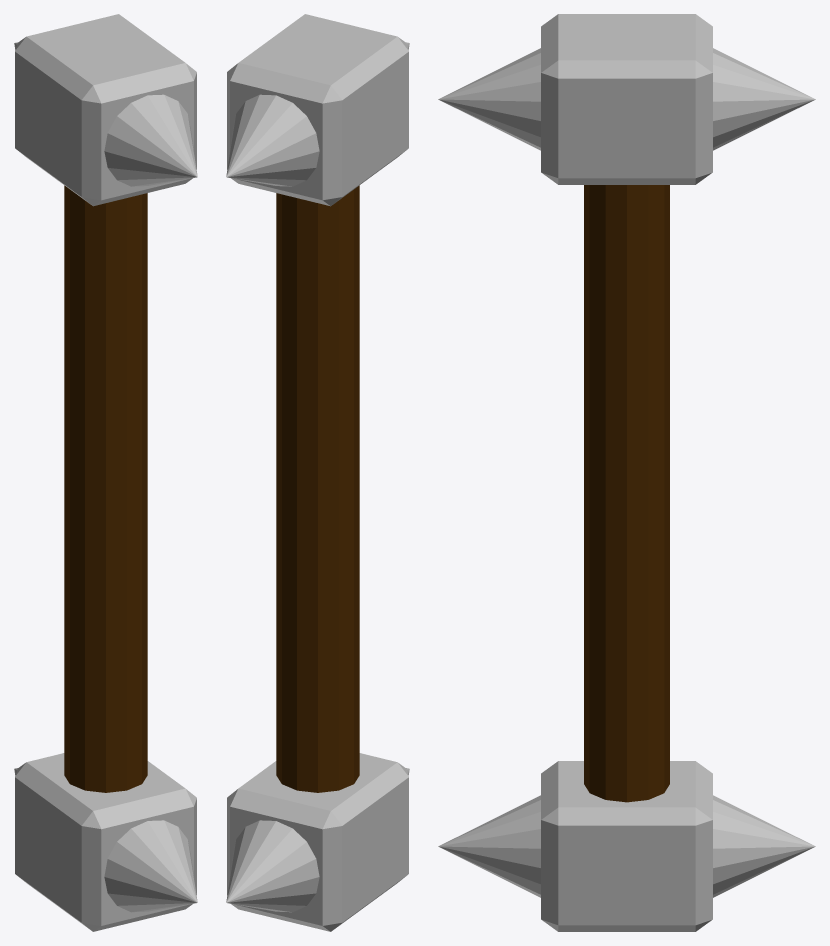
Rendered from marteau.fbx.
3 views of the same model, side by side, from view 1: azimuth 30°, elevation 25°; view 2: azimuth 150°, elevation 25°; view 3: azimuth 270°, elevation 25° (orthographic). The views are drawn at different scales.
Visible parts, largest first — view 1: Cylindre, Cube, Cône; view 2: Cylindre, Cube, Cône; view 3: Cube, Cylindre, Cône.
Part boxes in pixels (x1,y1,x2,y2): Cylindre: (64, 185, 147, 792); Cube: (15, 14, 196, 931); Cône: (14, 42, 197, 912); Cylindre: (276, 185, 359, 792); Cube: (227, 14, 408, 931); Cône: (226, 42, 409, 912); Cube: (541, 14, 712, 931); Cylindre: (584, 185, 669, 802); Cône: (438, 48, 815, 897).
Size of the model in its own units: 160 by 1120 by 440.
